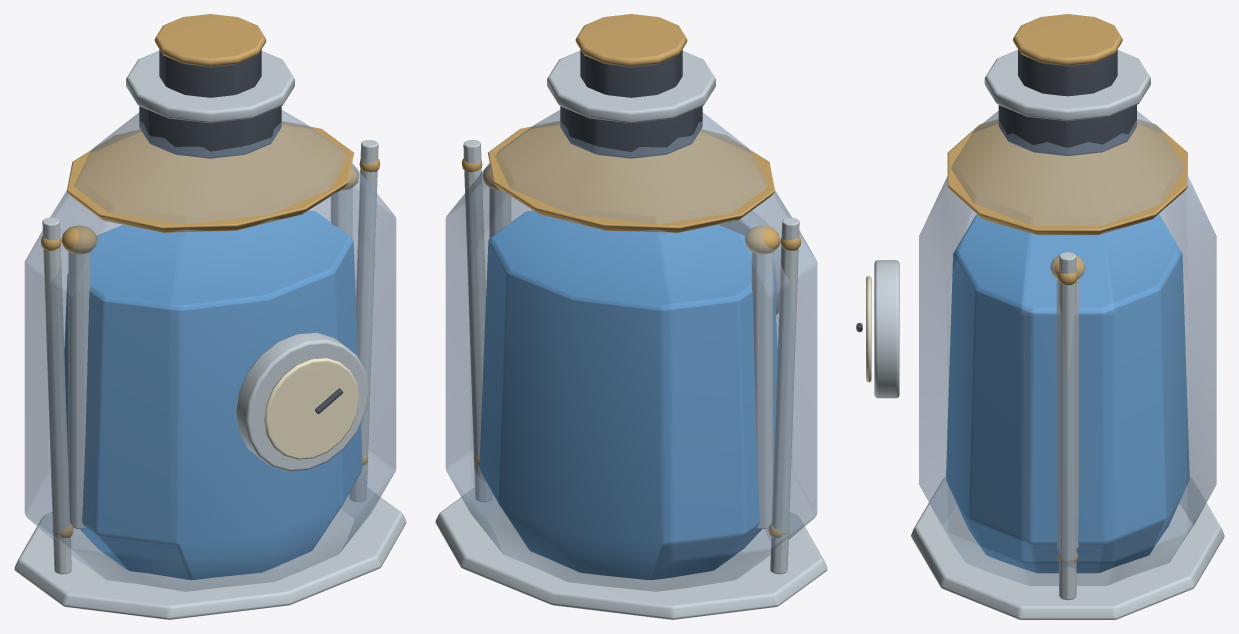
Rendered from SM_Flask_Water.fbx.
3 renders of one model, left to right at view 1: azimuth 30°, elevation 25°; view 2: azimuth 150°, elevation 25°; view 3: azimuth 270°, elevation 25°, orthographic.
Visible parts, largest first — view 1: glass_CutVessel, liquid_ContainedEssence, gold_ShoulderRim, metal_BaseRing, liquid_Meniscus, ivory_GaugeFace, metal_GaugeRim, metal_CradleRail, metal_MouthLip, metal_PressurePipe, dark_NeckSleeve, metal_CradleRail.001 (+4 smaller); view 2: glass_CutVessel, liquid_ContainedEssence, gold_ShoulderRim, metal_BaseRing, liquid_Meniscus, metal_CradleRail, metal_MouthLip, metal_PressurePipe, metal_CradleRail.001, dark_NeckSleeve, gold_CapInset, dark_SealedStopper (+3 smaller); view 3: glass_CutVessel, liquid_ContainedEssence, gold_ShoulderRim, metal_BaseRing, liquid_Meniscus, metal_CradleRail.001, metal_MouthLip, dark_NeckSleeve, gold_CapInset, metal_GaugeRim, dark_SealedStopper, metal_PressurePipe.001 (+1 smaller).
Part boxes in pixels (box(x1,y1,x2,y2)): glass_CutVessel: box(24, 110, 396, 591); liquid_ContainedEssence: box(64, 238, 362, 580); gold_ShoulderRim: box(67, 121, 353, 232); metal_BaseRing: box(14, 487, 406, 619); liquid_Meniscus: box(90, 210, 351, 308); ivory_GaugeFace: box(264, 358, 359, 459); metal_GaugeRim: box(236, 332, 368, 471); metal_CradleRail: box(42, 217, 71, 574); metal_MouthLip: box(126, 51, 294, 123); metal_PressurePipe: box(68, 252, 90, 528); dark_NeckSleeve: box(139, 106, 281, 158); metal_CradleRail.001: box(349, 140, 378, 501); glass_CutVessel: box(445, 110, 817, 591); liquid_ContainedEssence: box(479, 238, 777, 579); gold_ShoulderRim: box(488, 121, 774, 232); metal_BaseRing: box(435, 487, 827, 619); liquid_Meniscus: box(490, 210, 751, 308); metal_CradleRail: box(770, 217, 799, 574); metal_MouthLip: box(547, 51, 715, 123); metal_PressurePipe: box(751, 252, 773, 528); metal_CradleRail.001: box(463, 140, 492, 501); dark_NeckSleeve: box(560, 106, 702, 158); gold_CapInset: box(575, 14, 687, 66); dark_SealedStopper: box(580, 49, 682, 97); glass_CutVessel: box(919, 111, 1216, 585); liquid_ContainedEssence: box(946, 252, 1189, 573); gold_ShoulderRim: box(947, 119, 1187, 235); metal_BaseRing: box(911, 477, 1224, 619); liquid_Meniscus: box(954, 214, 1180, 311); metal_CradleRail.001: box(1059, 252, 1076, 600); metal_MouthLip: box(984, 50, 1150, 121); dark_NeckSleeve: box(998, 105, 1136, 155); gold_CapInset: box(1013, 14, 1122, 65); metal_GaugeRim: box(874, 260, 899, 398); dark_SealedStopper: box(1018, 50, 1117, 96); metal_PressurePipe.001: box(1056, 279, 1078, 548).
Bounding box in the file's own units: 34.07 × 49.5 × 32.17.
